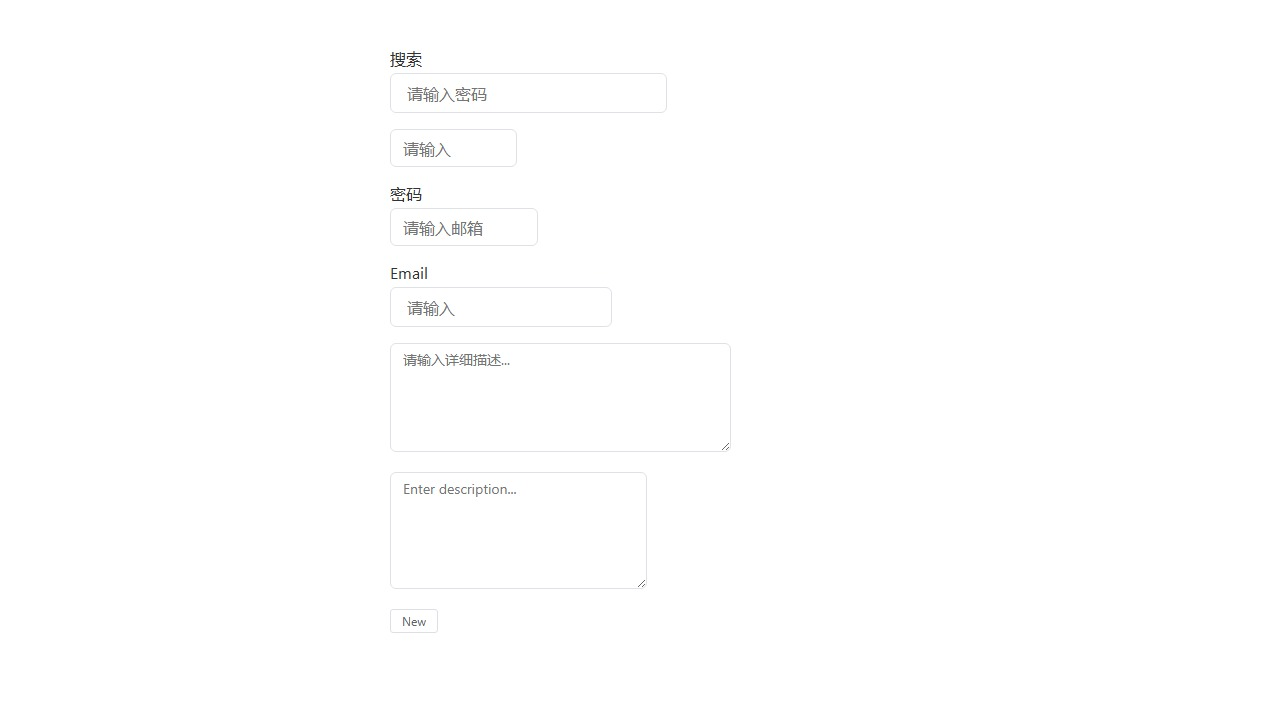button: (390, 609, 438, 633)
input: (390, 73, 667, 113), (390, 287, 612, 327), (390, 208, 538, 246), (390, 129, 517, 167)
textarea: (390, 343, 731, 452), (390, 472, 647, 589)
